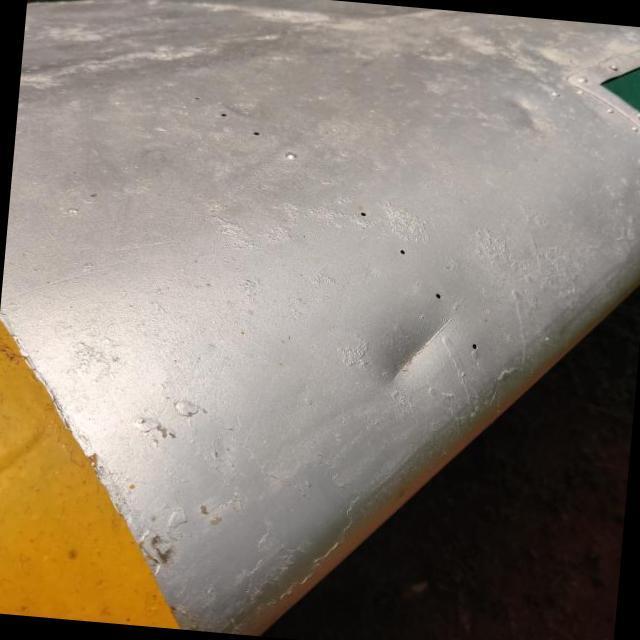Dent: (340, 284, 481, 423)
